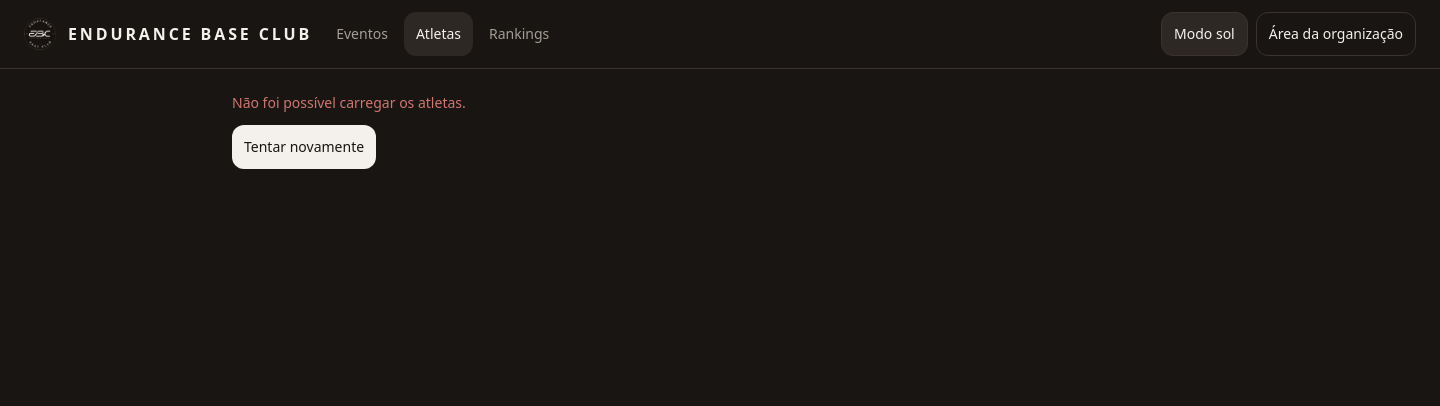
Test: PublicAthletesPage (#/perfis) › offers a retry after a load error
Expected: the text "Não foi possível carregar os atletas." is shown, [232,93,466,113]
Click the button "Tentar novamente". click: (304, 147)
box: [232,125,376,169]
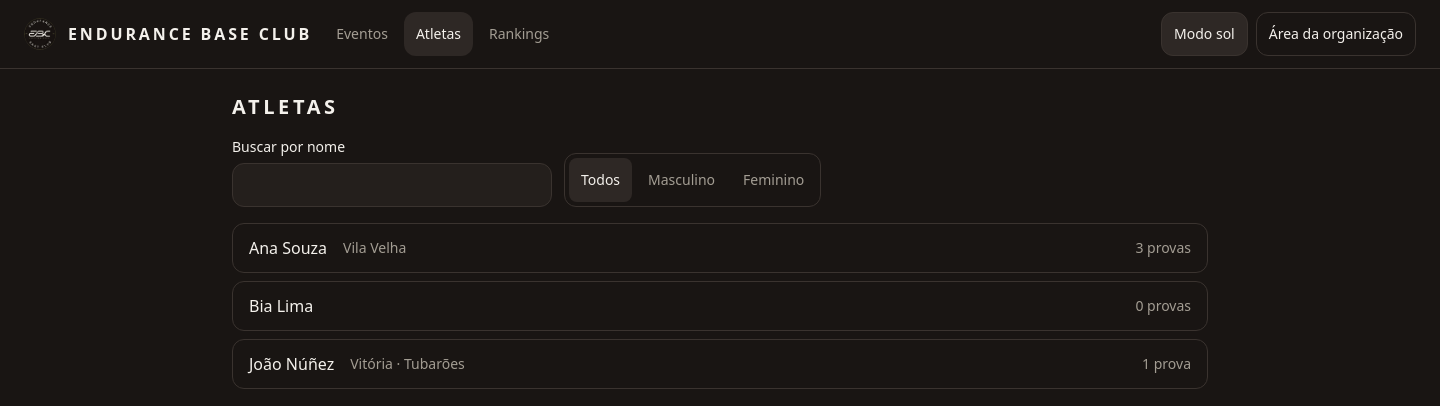
Expected: the number of links with test id "athlete-row" is 3, [232,223,1208,273]; [232,281,1208,331]; [232,339,1208,389]
